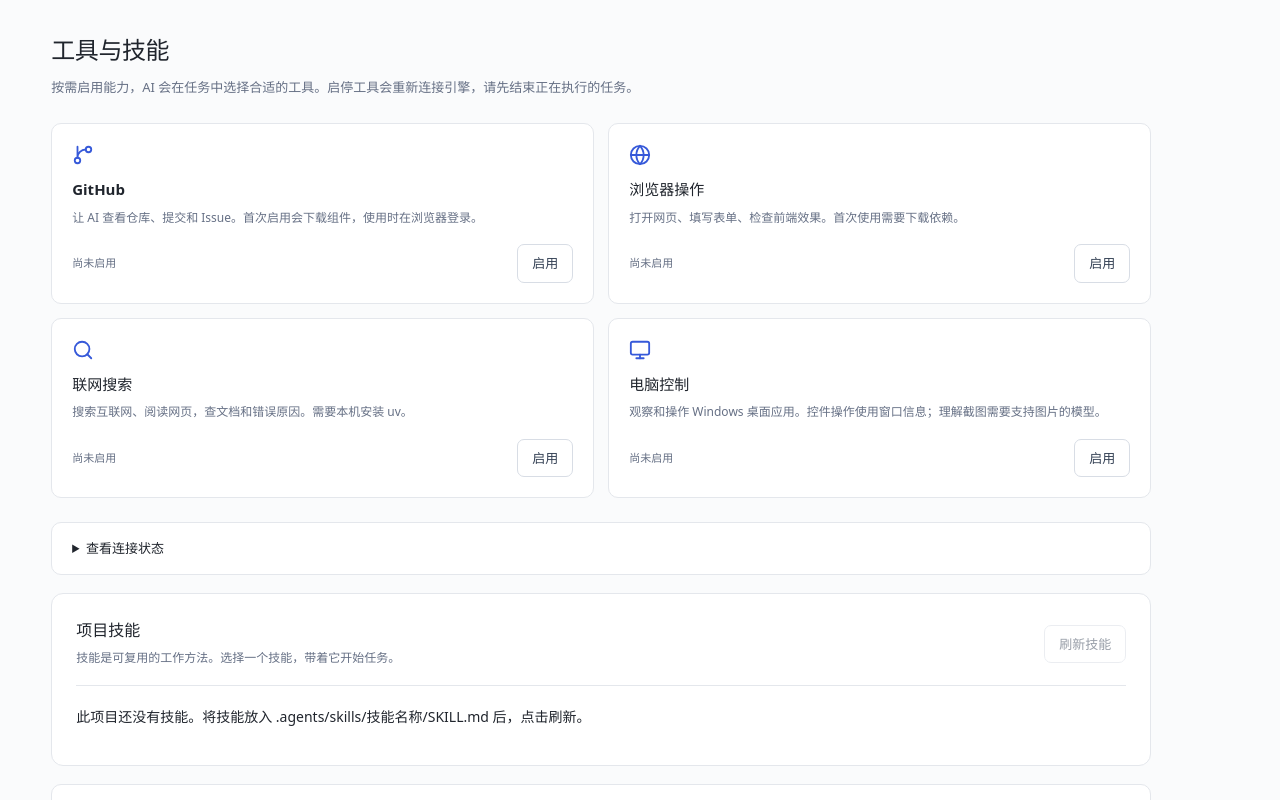
it: 组件下载失败和保存失败保持原设置，不显示已启用
The width and height of the screenshot is (1280, 800).
Click the switch named "GitHub": [545, 264] box [517,244,573,283]
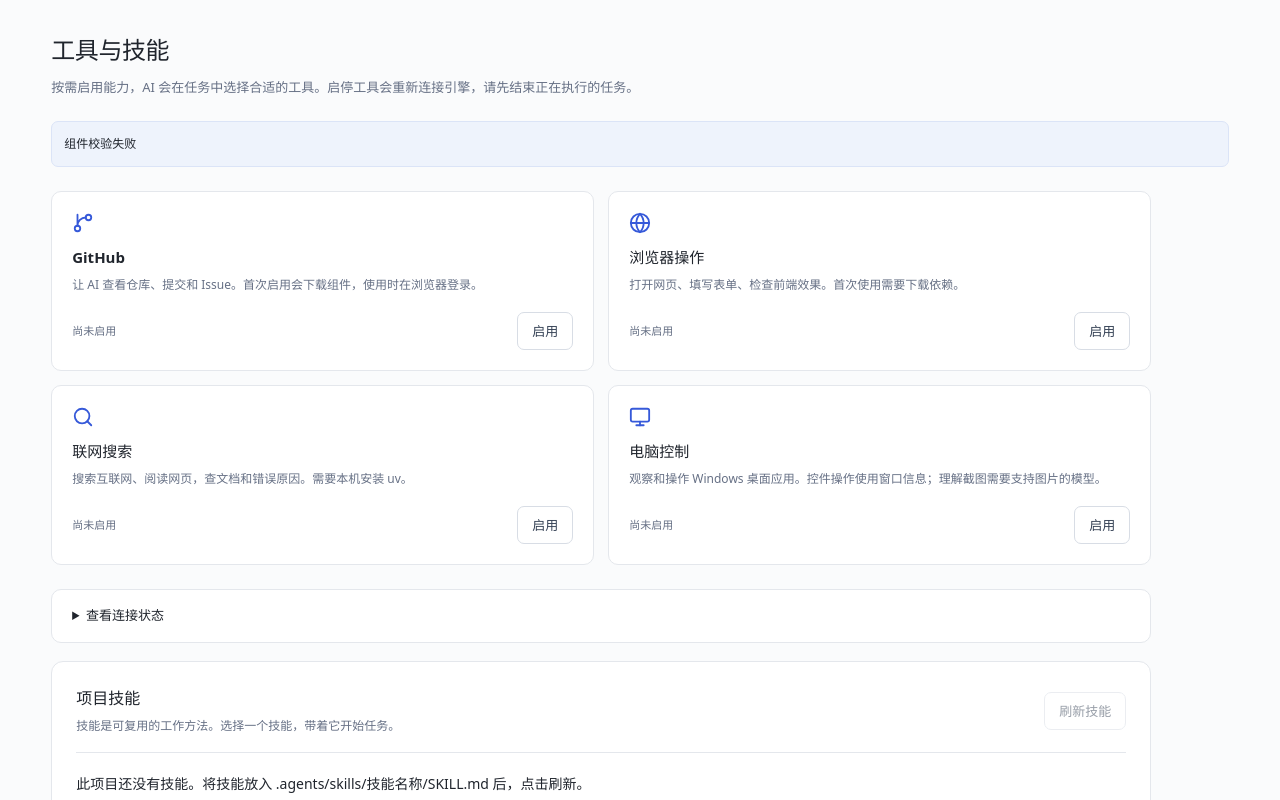
Check: the text "组件校验失败" is shown, box [51,121,1229,167]
Click the switch named "GitHub": [545, 331] box [517,312,573,350]
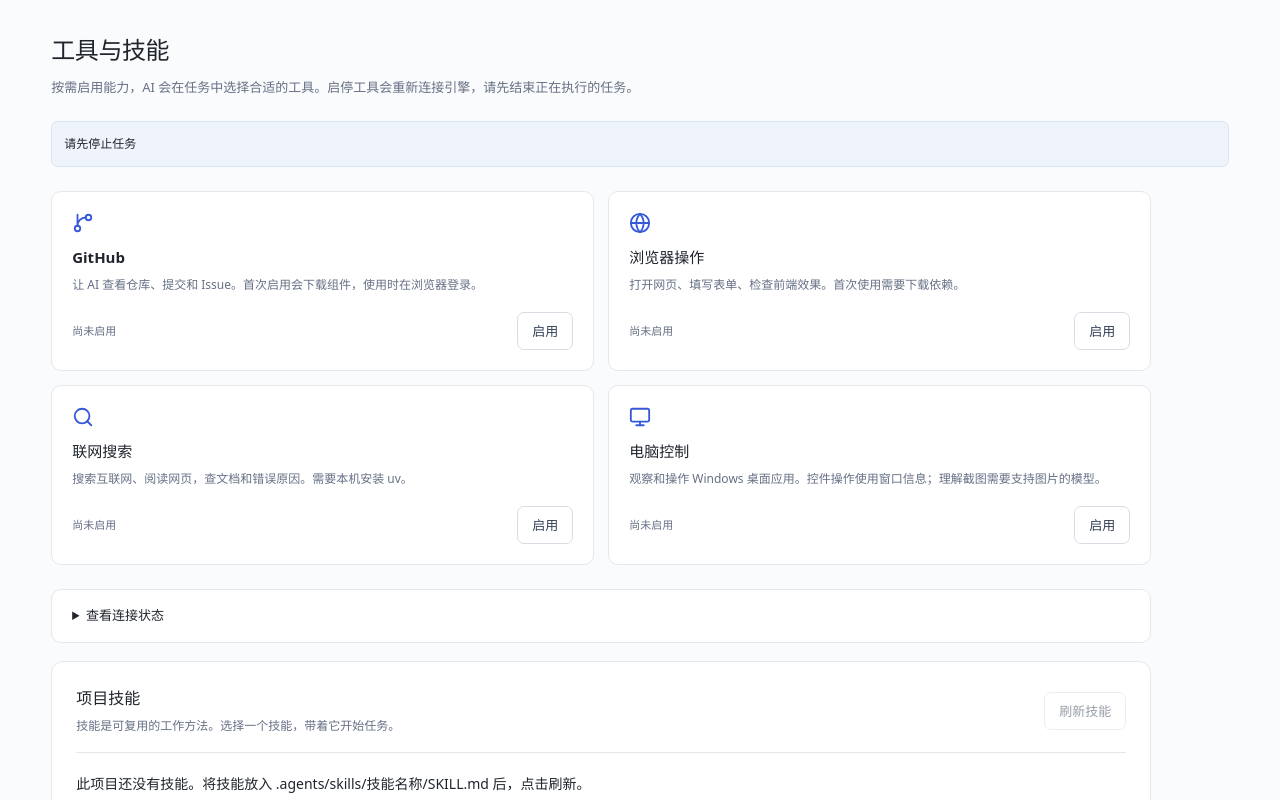
Check: the text "请先停止任务" is shown, box [51,121,1229,167]
